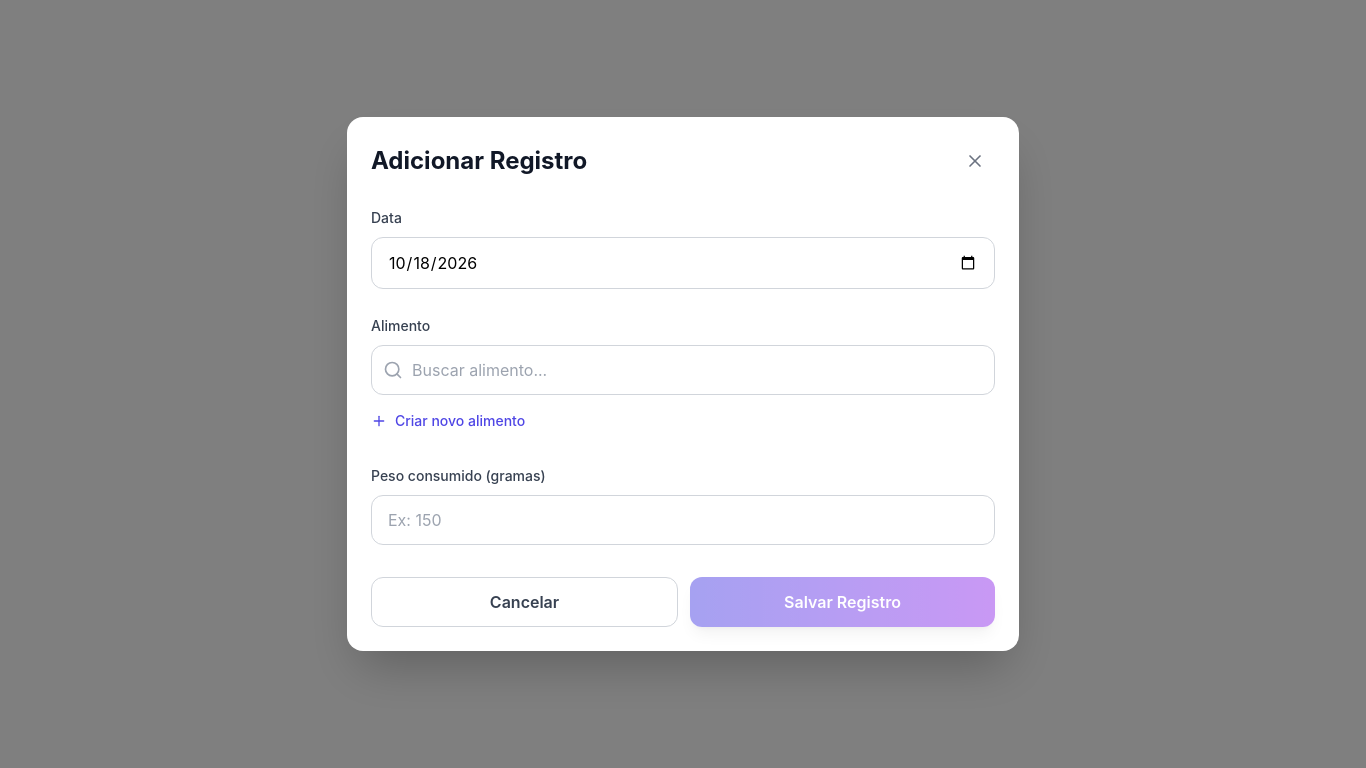
AdicionarRegistro component › limpa a busca e reabre o dropdown
Type "ma" into the field with placeholder "Buscar alimento..." at x=683, y=370, box [371, 345, 995, 395]
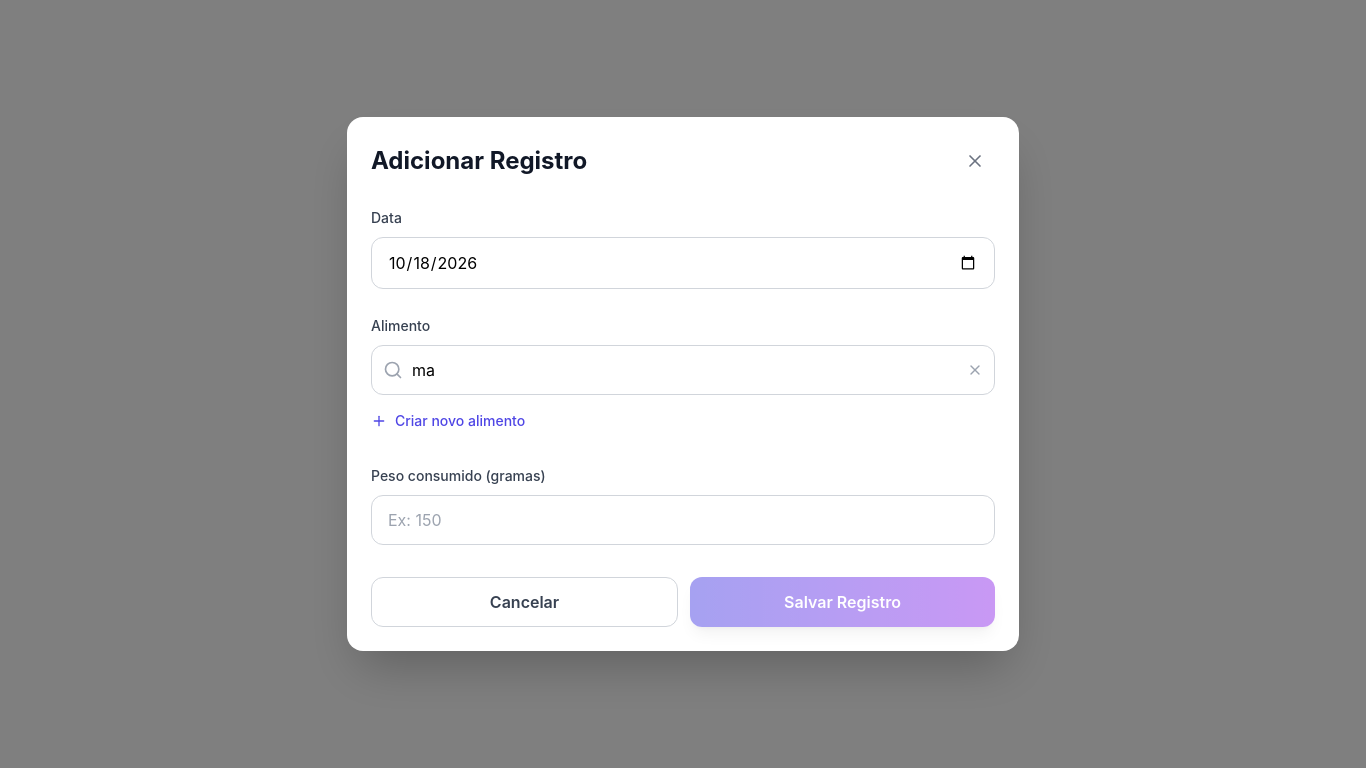
Click the 2nd button at x=975, y=370, box [967, 362, 983, 378]
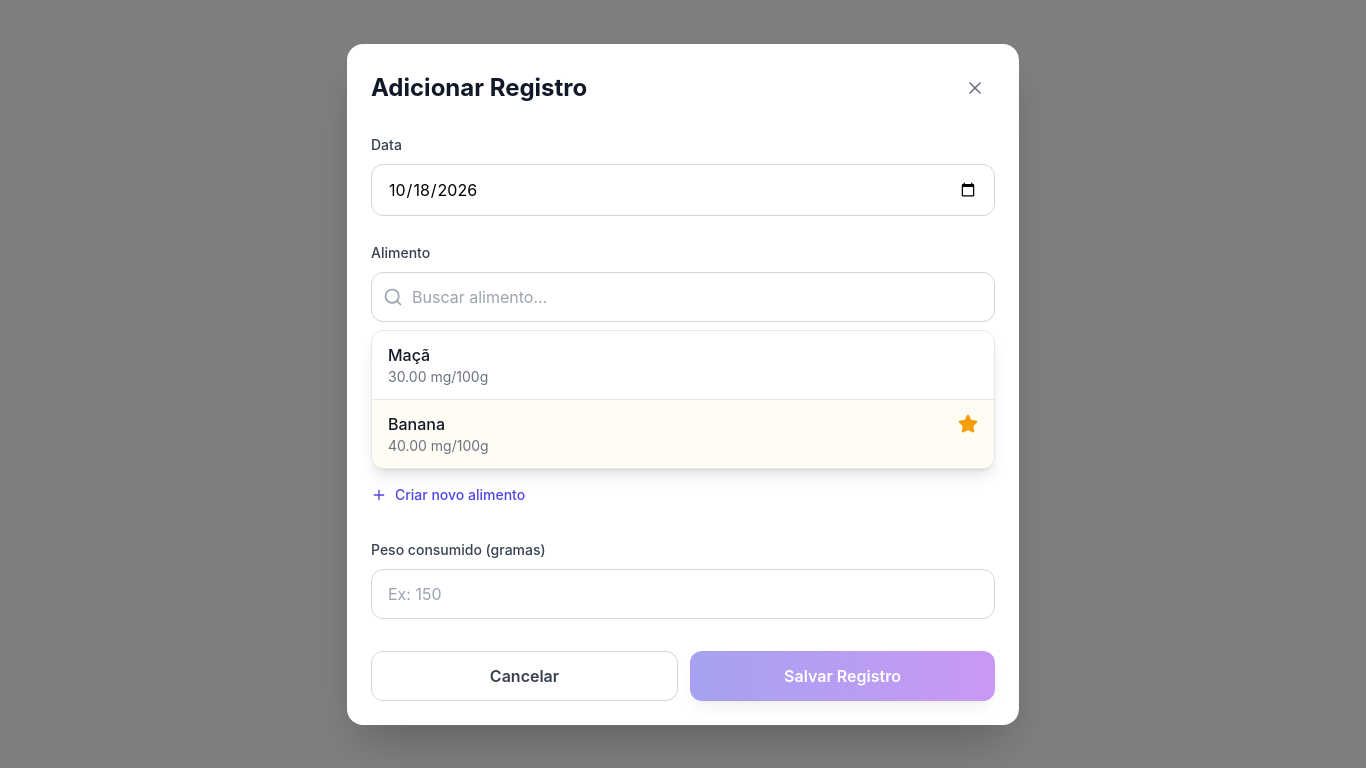
Now the field with placeholder "Buscar alimento..." is empty, box [371, 272, 995, 322]
Now the button "Banana 40.00 mg/100g" is shown, box [372, 398, 994, 468]
